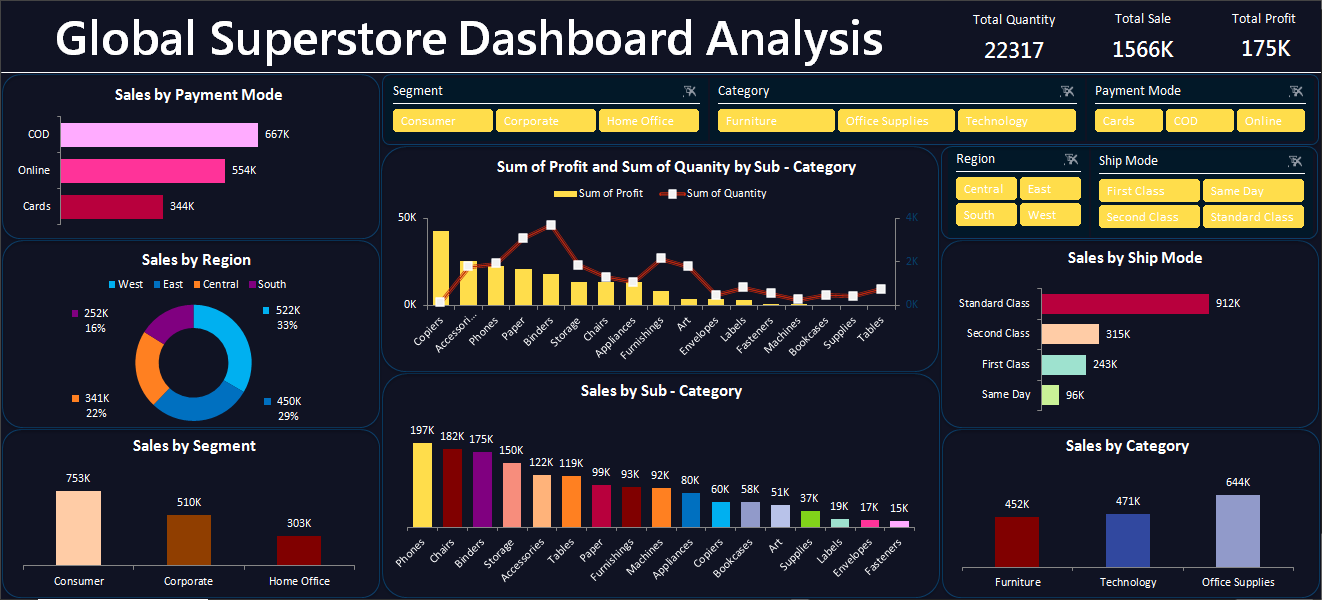

The page's visual inventory and layout, read from the dashboard file:
{"tool":"powerbi","page":{"name":"Global Superstore Dashboard Analysis","canvas":[3300,1800],"ordinal":0},"visuals":[{"type":"shape","box":[27.8,27.8,1773.5,198.8],"z":0},{"type":"card","title":"Total Sale","fields":{"Values":["Global Superstore Dashboard.Total Sale"]},"box":[1733.8,27.8,513,246.5],"z":1000},{"type":"card","title":"Total Profit","fields":{"Values":["Global Superstore Dashboard.Total Profit"]},"box":[2246.7,27.8,513,246.5],"z":2000},{"type":"card","title":"Total Quantity","fields":{"Values":["Global Superstore Dashboard.Total Quantity"]},"box":[2759.7,27.8,513,246.5],"z":3000},{"type":"textbox","box":[75.6,63.6,1733.8,163],"z":4000},{"type":"shape","box":[0,171,3300,159.1],"z":5000},{"type":"clusteredBarChart","title":"Sales by Payment Mode","fields":{"Y":["Global Superstore Dashboard.Total Sale"],"Category":["Global Superstore Dashboard.Payment Mode"]},"box":[27.8,274.4,1057.8,433.4],"z":6000},{"type":"donutChart","title":"Sales by Region","fields":{"Y":["Global Superstore Dashboard.Total Sale"],"Category":["Global Superstore Dashboard.Region"]},"box":[27.8,723.7,1057.8,600.5],"z":7000},{"type":"clusteredColumnChart","title":"Sales by Segment","fields":{"Category":["Global Superstore Dashboard.Segment"],"Y":["Global Superstore Dashboard.Total Sale"]},"box":[27.8,1340.1,1057.8,433.4],"z":8000},{"type":"lineClusteredColumnComboChart","title":"Total Profit and Total Quantity by Sub - Category","fields":{"Y":["Global Superstore Dashboard.Total Sale"],"Category":["Global Superstore Dashboard.Sub-Category"],"Y2":["Global Superstore Dashboard.Total Quantity"]},"box":[1105.5,509,1304.3,644.2],"z":9000},{"type":"slicer","title":"Segment","fields":{"Values":["Global Superstore Dashboard.Segment"]},"box":[1101.5,278.4,699.9,214.7],"z":10000},{"type":"slicer","title":"Category","fields":{"Values":["Global Superstore Dashboard.Category"]},"box":[1837.2,278.4,699.9,214.7],"z":11000},{"type":"slicer","title":"Payment Mode","fields":{"Values":["Global Superstore Dashboard.Payment Mode"]},"box":[2572.8,278.4,699.9,214.7],"z":12000},{"type":"clusteredColumnChart","title":"Sales by Sub - Category","fields":{"Category":["Global Superstore Dashboard.Sub-Category"],"Y":["Sum(Global Superstore Dashboard.Sales)"]},"box":[1105.5,1165.1,1300.3,608.4],"z":13000},{"type":"slicer","title":"Region","fields":{"Values":["Global Superstore Dashboard.Region"]},"box":[2423.3,508.3,425,291.7],"z":14000},{"type":"slicer","title":"Ship Mode","fields":{"Values":["Global Superstore Dashboard.Ship Mode"]},"box":[2863.1,509,409.6,290.3],"z":15000},{"type":"clusteredBarChart","title":"Sales by Ship Mode","fields":{"Y":["Sum(Global Superstore Dashboard.Sales)"],"Category":["Global Superstore Dashboard.Ship Mode"]},"box":[2426.8,813.2,852,512],"z":16000},{"type":"clusteredColumnChart","title":"Sales by Category","fields":{"Y":["Sum(Global Superstore Dashboard.Sales)"],"Category":["Global Superstore Dashboard.Category"]},"box":[2430.8,1341.5,852.4,431.7],"z":17000}]}

Visuals, with their boxes on the page's 3300x1800 design canvas (x1, y1, x2, y2). These are canvas units, not pixel positions in the 1322x600 screenshot, which may show the page scaled, cropped or inside an application window:
shape: pyautogui.locateOnScreen(28, 28, 1801, 227)
"Total Sale" card: pyautogui.locateOnScreen(1734, 28, 2247, 274)
"Total Profit" card: pyautogui.locateOnScreen(2247, 28, 2760, 274)
"Total Quantity" card: pyautogui.locateOnScreen(2760, 28, 3273, 274)
textbox: pyautogui.locateOnScreen(76, 64, 1809, 227)
shape: pyautogui.locateOnScreen(0, 171, 3300, 330)
"Sales by Payment Mode" clusteredBarChart: pyautogui.locateOnScreen(28, 274, 1086, 708)
"Sales by Region" donutChart: pyautogui.locateOnScreen(28, 724, 1086, 1324)
"Sales by Segment" clusteredColumnChart: pyautogui.locateOnScreen(28, 1340, 1086, 1774)
"Total Profit and Total Quantity by Sub - Category" lineClusteredColumnComboChart: pyautogui.locateOnScreen(1106, 509, 2410, 1153)
"Segment" slicer: pyautogui.locateOnScreen(1102, 278, 1801, 493)
"Category" slicer: pyautogui.locateOnScreen(1837, 278, 2537, 493)
"Payment Mode" slicer: pyautogui.locateOnScreen(2573, 278, 3273, 493)
"Sales by Sub - Category" clusteredColumnChart: pyautogui.locateOnScreen(1106, 1165, 2406, 1774)
"Region" slicer: pyautogui.locateOnScreen(2423, 508, 2848, 800)
"Ship Mode" slicer: pyautogui.locateOnScreen(2863, 509, 3273, 799)
"Sales by Ship Mode" clusteredBarChart: pyautogui.locateOnScreen(2427, 813, 3279, 1325)
"Sales by Category" clusteredColumnChart: pyautogui.locateOnScreen(2431, 1342, 3283, 1773)
